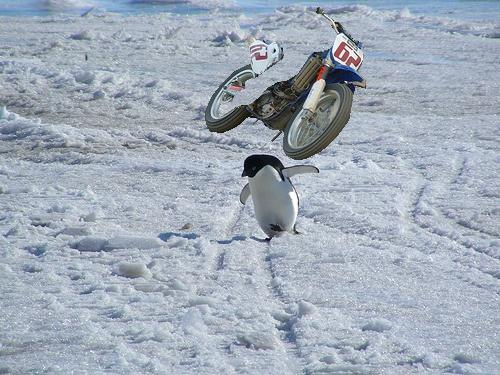tampered: (206, 8, 366, 160)
